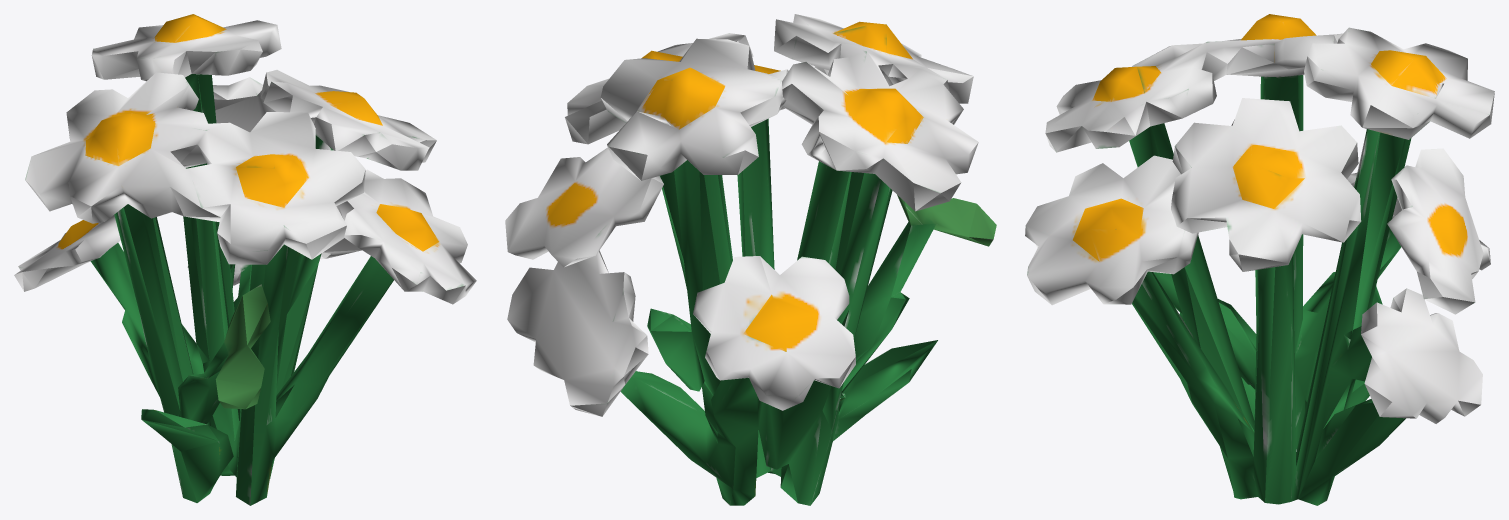
The model's file is daisy-cluster.glb.
The picture shows the model from 3 angles, left to right: view 1: azimuth 30°, elevation 25°; view 2: azimuth 150°, elevation 25°; view 3: azimuth 270°, elevation 25°; orthographic projection. The views are drawn at different scales.
Parts seen in each view (by area): view 1: geometry_0; view 2: geometry_0; view 3: geometry_0.
Part boxes in pixels (left/top/right/bottom): geometry_0: left=14, top=14, right=476, bottom=505; geometry_0: left=505, top=14, right=996, bottom=505; geometry_0: left=1025, top=14, right=1494, bottom=505.
Bounding box in the file's own units: 0.9117 × 1 × 0.9384.
1 material, 1 textured.
